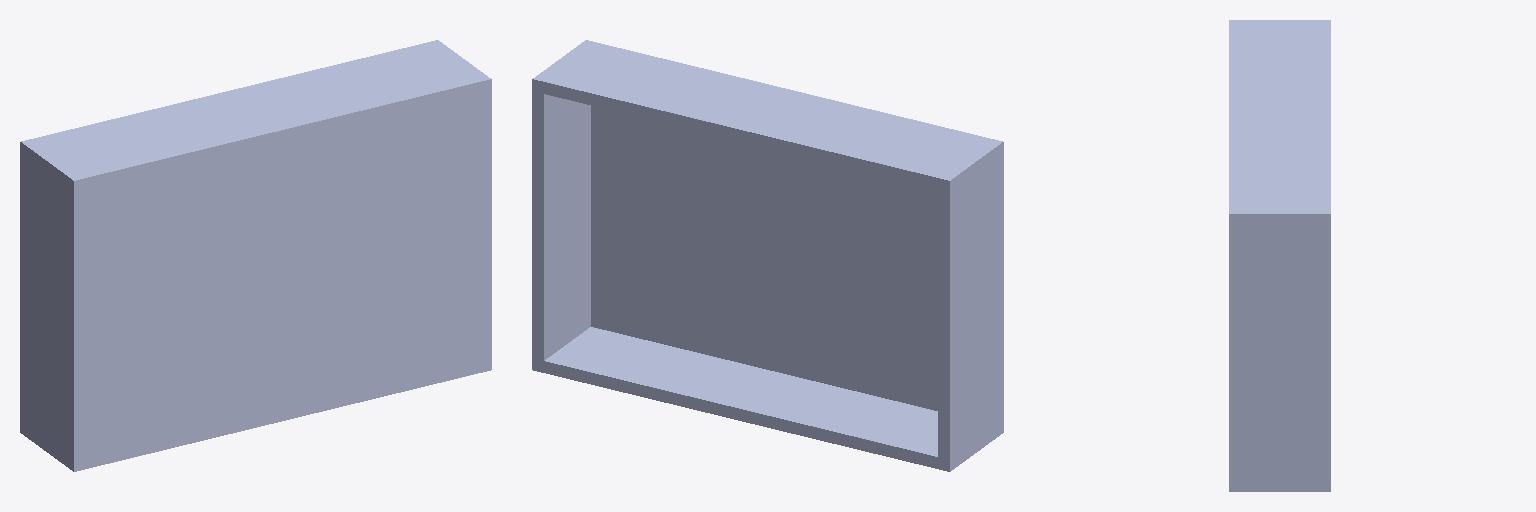
URDF robot description (rbe595_bucket):
<?xml version="1.0"?>
<robot name="rbe595_bucket">

    <link name="bucket_link">

        <inertial>
            <mass value="0.000429136"/>
            <origin xyz="-1.38778e-17 0.015481 0" rpy="0 0 0"/>
            <inertia
                ixx="1.34916e-06"
                ixy="0"
                ixz="0"
                iyy="3.74454e-06"
                iyz="0"
                izz="2.60363e-06"/>
        </inertial>

        <visual>
            <origin xyz="-0.1143 0 0.0762" rpy="0 0 0"/>
            <geometry>
                <mesh filename="../meshes/Part_1.stl" scale="1 1 1"/>
            </geometry>
            <material name="bucket_material">
                <color rgba="0.792157 0.819608 0.933333 1"/>
            </material>
        </visual>

        <collision>
            <origin xyz="-0.1143 0 0.0762" rpy="0 0 0"/>
            <geometry>
                <mesh filename="../meshes/Part_1.stl" scale="1 1 1"/>
            </geometry>
        </collision>

    </link>

</robot>

--- Facts derived from the render (not from the file) ---
The picture shows the robot from 3 angles, left to right: view 1: azimuth 30°, elevation 25°; view 2: azimuth 150°, elevation 25°; view 3: azimuth 270°, elevation 25°; orthographic projection.
Robot: rbe595_bucket — 1 links, 0 joints (none); root link bucket_link; default pose: all joints at 0.
Links seen in each view (by area): view 1: bucket_link; view 2: bucket_link; view 3: bucket_link.
Boxes of the visible links, x1,y1,x2,y2 form: bucket_link: (20,40,491,471); bucket_link: (532,40,1003,471); bucket_link: (1229,20,1330,491).
Size in the robot's own frame: 0.2286 by 0.0508 by 0.1524 metres.
1 mesh visuals loaded from 1 distinct referenced files (1 binary STL).
